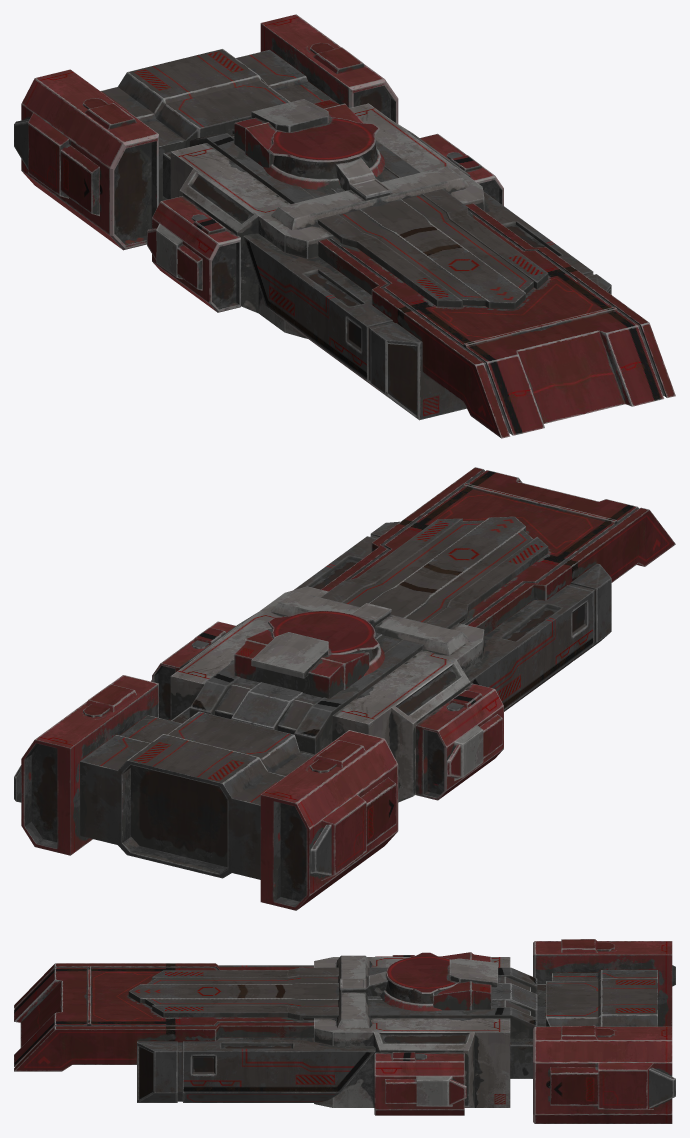
The model's file is imperial.glb.
3 views of the same model, one above another, from view 1: azimuth 30°, elevation 25°; view 2: azimuth 150°, elevation 25°; view 3: azimuth 270°, elevation 25° (orthographic). The views are drawn at different scales.
Visible parts, largest first — view 1: Imperial; view 2: Imperial; view 3: Imperial.
Part boxes in pixels (box(x1,y1,x2,y2)): Imperial: box(14, 14, 675, 438); Imperial: box(14, 467, 675, 910); Imperial: box(14, 939, 675, 1123).
Size of the model in its own units: 7.73 by 3.3 by 18.55.
Materials: 1 (1 with a texture image).
